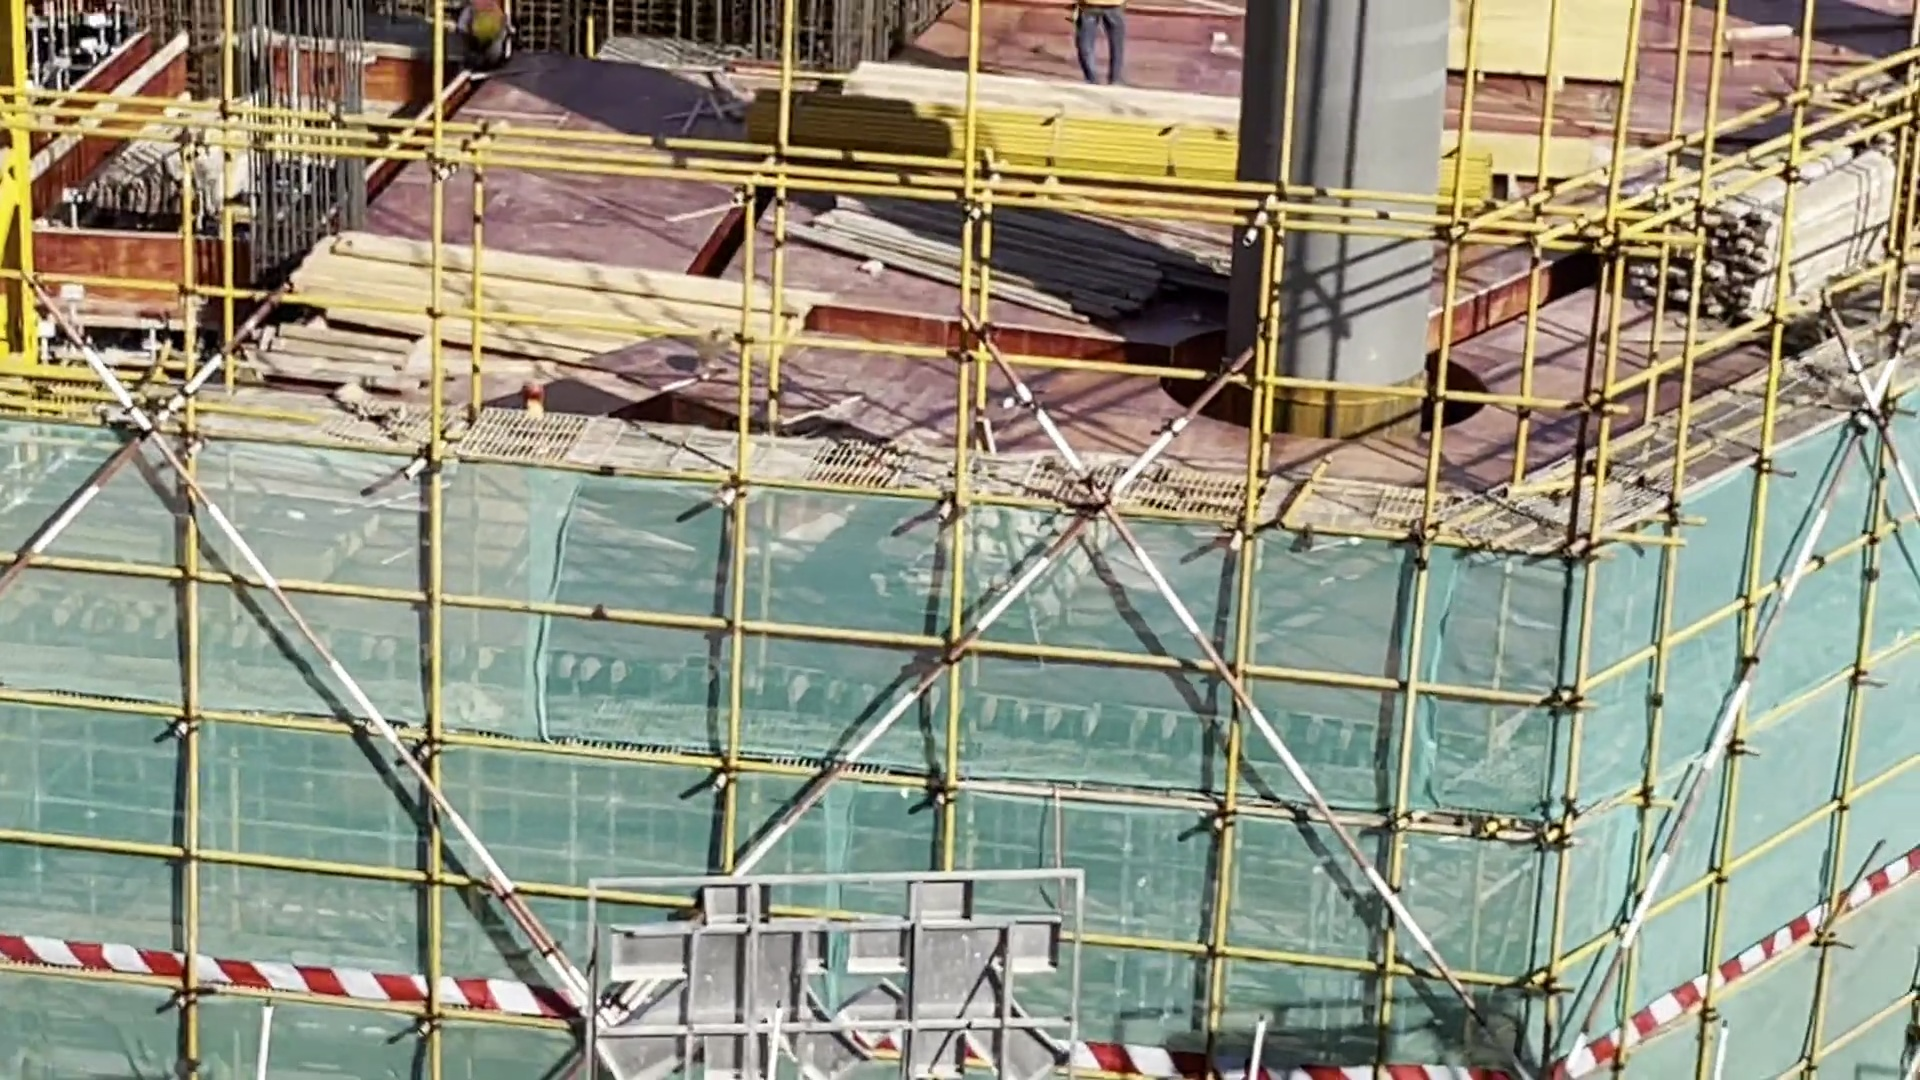board: (1425, 1, 1641, 94)
person: (1076, 1, 1141, 91), (458, 1, 513, 74)
wood: (300, 230, 805, 388), (1616, 156, 1891, 321)
